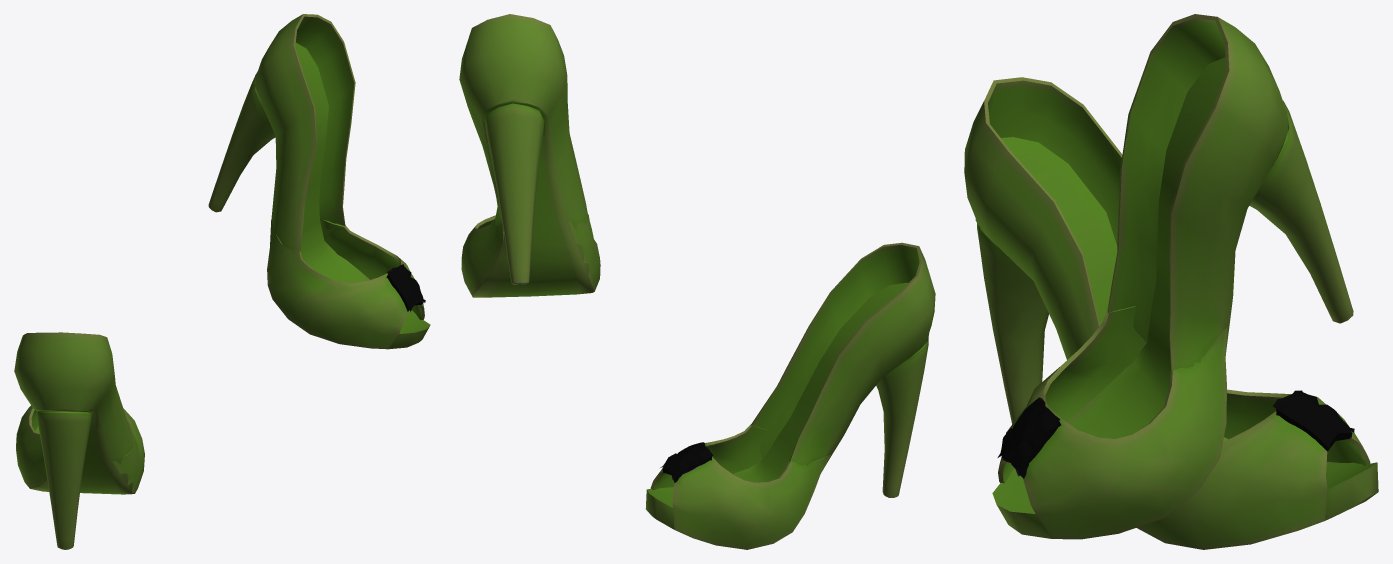
Rendered from BellyC.fbx.
3 renders of one model, left to right at view 1: azimuth 30°, elevation 25°; view 2: azimuth 150°, elevation 25°; view 3: azimuth 270°, elevation 25°, orthographic. The views are drawn at different scales.
Visible parts, largest first — view 1: BellyC; view 2: BellyC; view 3: BellyC.
Boxes of the visible parts, bbox=[...] form: BellyC: bbox=[14, 14, 430, 549]; BellyC: bbox=[459, 14, 935, 549]; BellyC: bbox=[964, 14, 1378, 549].
Bounding box in the file's own units: 40.57 × 39.46 × 22.1.
